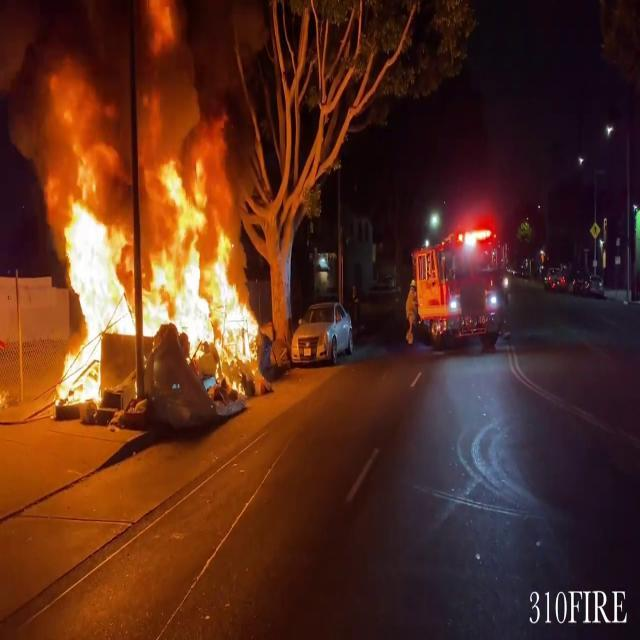Fire: (40, 156, 263, 408)
Smoke: (0, 0, 234, 196)
